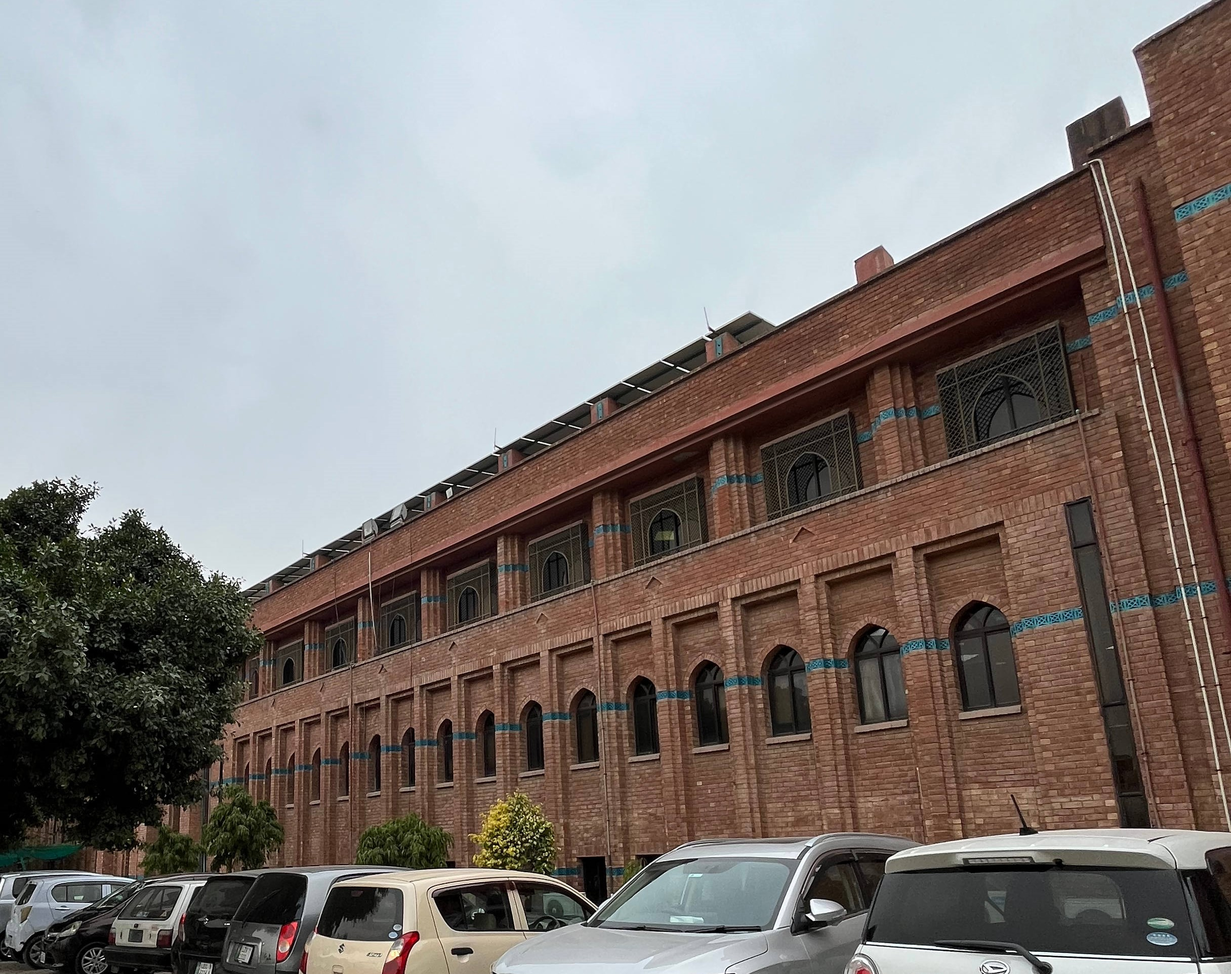Block D: (121, 7, 1231, 852)
